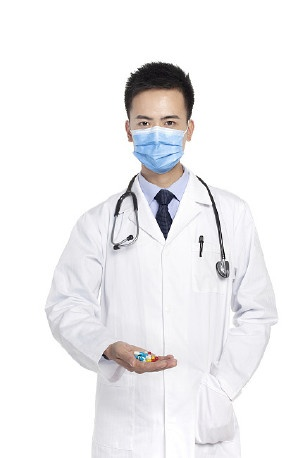Mask: (130, 111, 190, 171)
